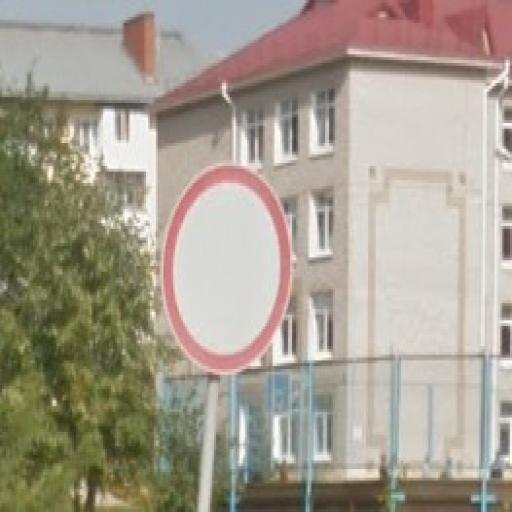traffic_sign: (161, 164, 293, 376)
